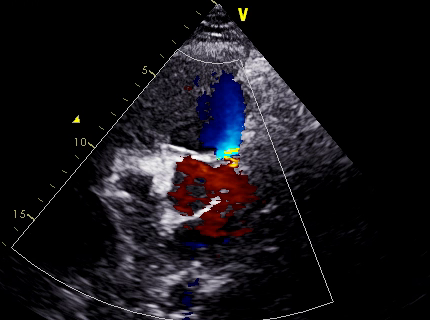PR: (199, 142, 268, 232)
